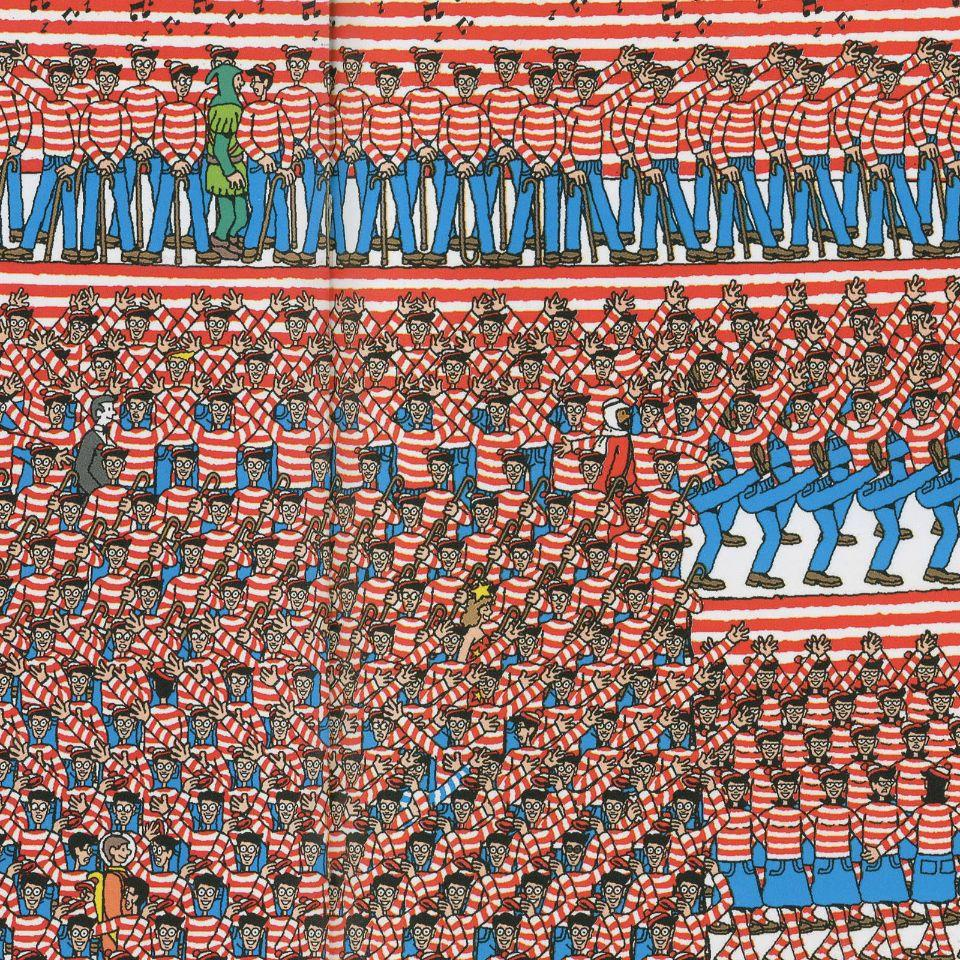waldo: (434, 61, 491, 179), (33, 59, 85, 180), (358, 62, 412, 175), (513, 63, 567, 176), (858, 63, 909, 182), (76, 60, 130, 169), (783, 61, 833, 176), (14, 443, 65, 535), (121, 44, 167, 141), (198, 387, 241, 490), (274, 389, 317, 490), (165, 530, 213, 620), (50, 492, 101, 574), (135, 574, 181, 663), (785, 392, 833, 476), (395, 491, 441, 578), (565, 69, 607, 164), (731, 393, 773, 487), (643, 448, 688, 535), (363, 618, 407, 706), (13, 534, 62, 613), (269, 491, 316, 573), (58, 661, 101, 749), (846, 390, 894, 468), (128, 491, 172, 575), (464, 491, 512, 566), (622, 669, 662, 758), (109, 702, 152, 783), (235, 446, 275, 532), (92, 533, 139, 606), (398, 388, 448, 456), (618, 576, 658, 661), (116, 389, 162, 462), (423, 539, 471, 608), (540, 667, 582, 745), (165, 444, 206, 523), (360, 446, 396, 535), (87, 443, 130, 517), (389, 573, 433, 645), (204, 490, 243, 571), (361, 536, 401, 614), (618, 493, 658, 569), (187, 702, 229, 772), (907, 387, 945, 461), (243, 533, 281, 606), (258, 617, 290, 703), (574, 449, 611, 523), (143, 748, 181, 819), (0, 490, 32, 574), (214, 573, 254, 640), (182, 618, 222, 684), (282, 44, 315, 123), (495, 452, 537, 514), (651, 542, 686, 611), (629, 911, 677, 960), (541, 492, 576, 559), (508, 622, 544, 686), (501, 540, 538, 602), (286, 664, 325, 722), (543, 581, 581, 640), (579, 536, 614, 599), (655, 629, 691, 690), (654, 310, 696, 362), (341, 47, 367, 130), (0, 573, 29, 643), (26, 702, 59, 763), (227, 744, 264, 798), (608, 313, 642, 367), (441, 706, 477, 757), (0, 658, 25, 730), (66, 744, 97, 792), (106, 616, 134, 669), (125, 307, 156, 353), (282, 576, 312, 623), (30, 618, 58, 668), (59, 575, 90, 618), (0, 304, 36, 341), (0, 56, 11, 177), (66, 306, 95, 351), (916, 40, 952, 76), (420, 447, 455, 484), (285, 304, 308, 360), (87, 342, 118, 383), (204, 306, 232, 350), (803, 345, 833, 385), (440, 348, 470, 388), (845, 41, 879, 76), (404, 312, 433, 353), (489, 47, 521, 84), (859, 341, 890, 379), (592, 705, 620, 747), (549, 47, 582, 82), (241, 347, 272, 383), (299, 743, 325, 785), (913, 339, 945, 373), (727, 306, 756, 343), (364, 350, 392, 388), (65, 44, 95, 79), (410, 46, 439, 82), (561, 394, 592, 427), (477, 313, 508, 346), (749, 349, 777, 385), (518, 351, 548, 384), (638, 394, 667, 428), (623, 46, 654, 76), (695, 350, 724, 382), (484, 394, 514, 424), (701, 49, 730, 80), (726, 63, 750, 97), (650, 67, 676, 98), (848, 304, 880, 329), (0, 746, 13, 805), (907, 299, 935, 325), (790, 305, 819, 328), (11, 947, 53, 960), (0, 40, 17, 72), (416, 949, 465, 960), (94, 950, 147, 960), (585, 949, 630, 960), (191, 948, 231, 960), (668, 950, 715, 960), (275, 949, 314, 960), (500, 951, 545, 960), (0, 342, 2, 384)
